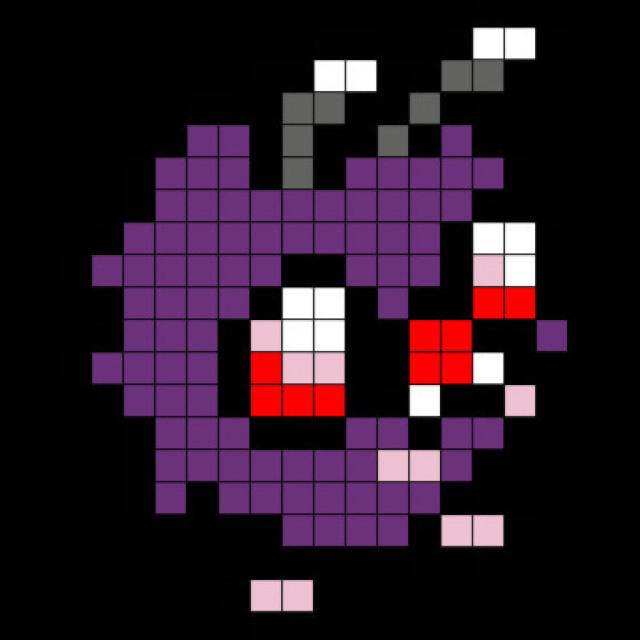Venonat: (87, 22, 569, 612)
